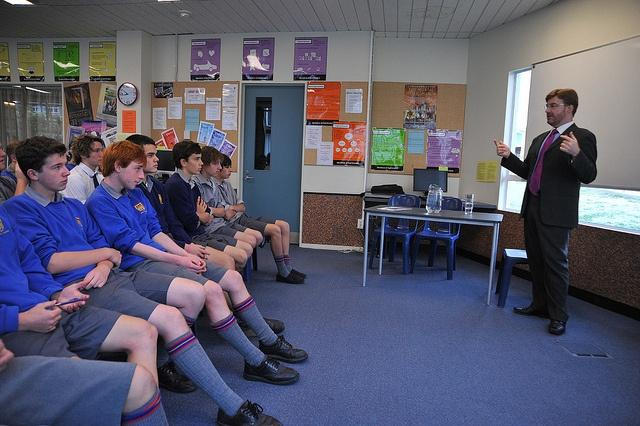Kursi: (409, 193, 463, 280), (366, 192, 421, 273)
Meja: (361, 203, 502, 259)
